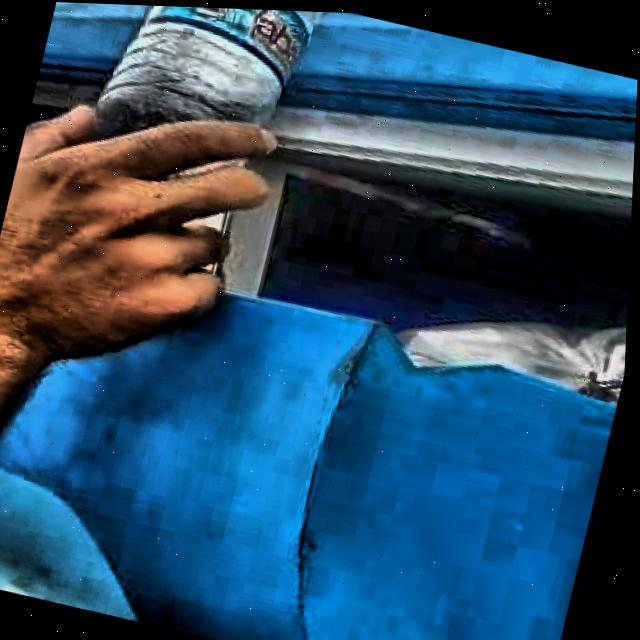plastic: (100, 4, 319, 131)
